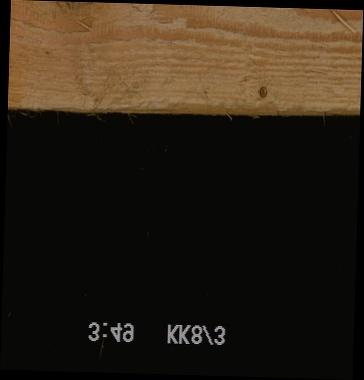dry_knot: (257, 84, 268, 100)
wave: (51, 101, 360, 116)
